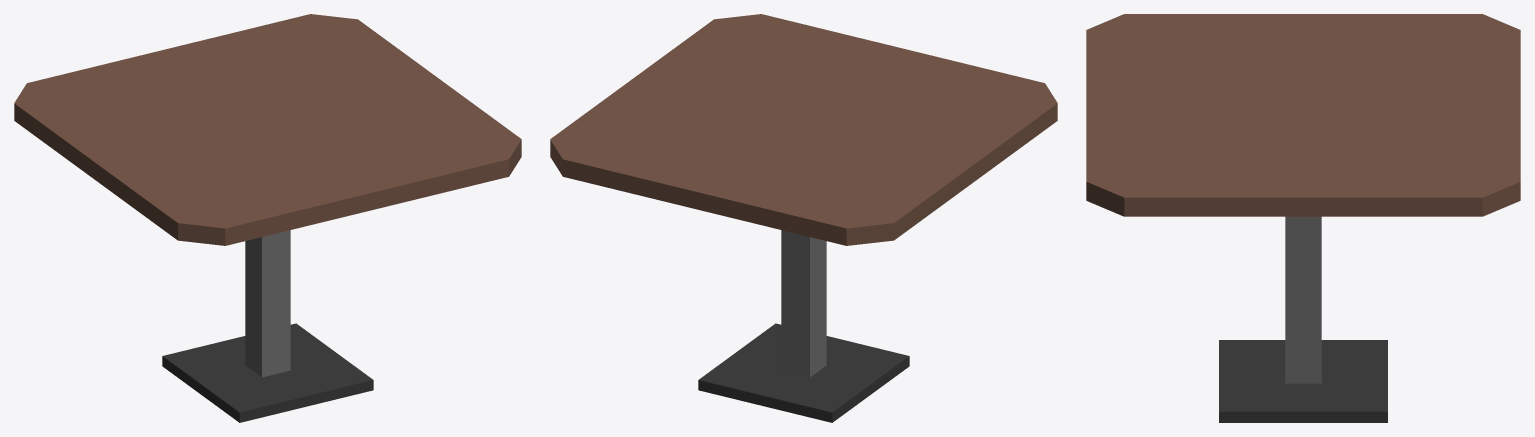
File: SM_Props_Cafe_01.fbx
3 renders of one model, left to right at view 1: azimuth 30°, elevation 25°; view 2: azimuth 150°, elevation 25°; view 3: azimuth 270°, elevation 25°, orthographic. The views are drawn at different scales.
Parts seen in each view (by area): view 1: SM_Props_Cafe_01; view 2: SM_Props_Cafe_01; view 3: SM_Props_Cafe_01.
Part boxes in pixels (x1,y1,x2,y2): SM_Props_Cafe_01: (14,14,521,422); SM_Props_Cafe_01: (550,14,1057,422); SM_Props_Cafe_01: (1086,14,1520,422).
Size of the model in its own units: 1.16 by 0.8257 by 1.16.
